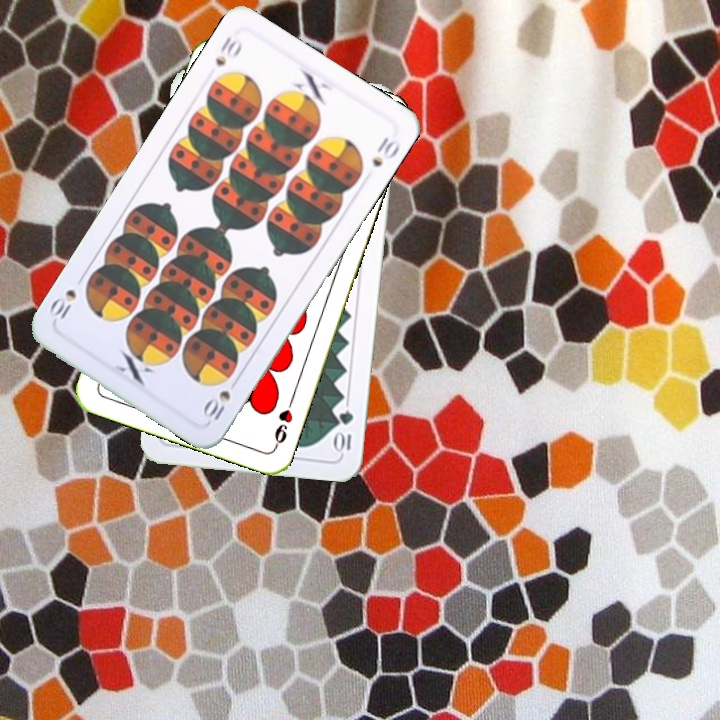G10: (333, 407, 356, 454)
H9: (270, 393, 297, 450)
S10: (199, 373, 242, 423), (210, 32, 245, 69)
